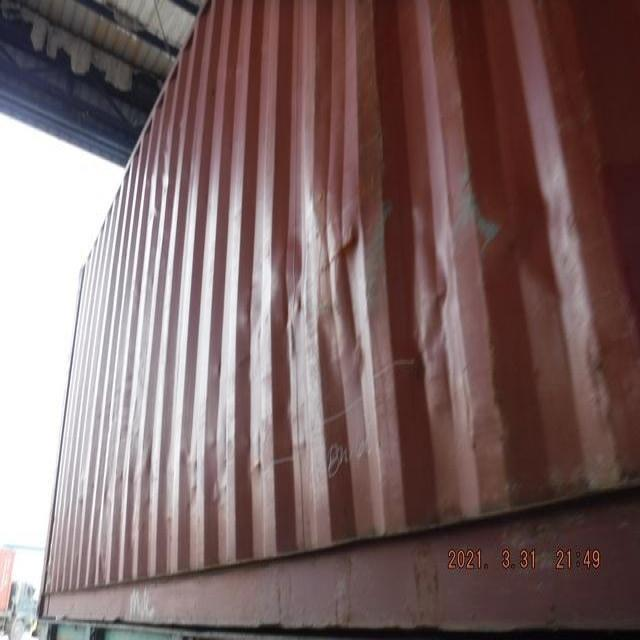Dent: (264, 137, 380, 387)
Minor-Dent: (375, 192, 490, 412)
